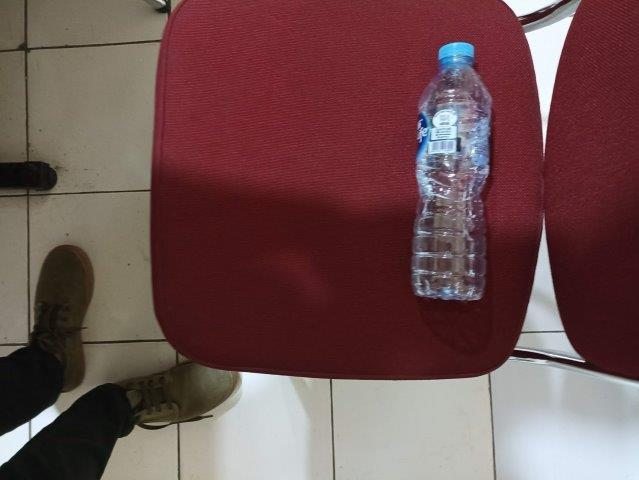botolplastik: (412, 43, 487, 301)
